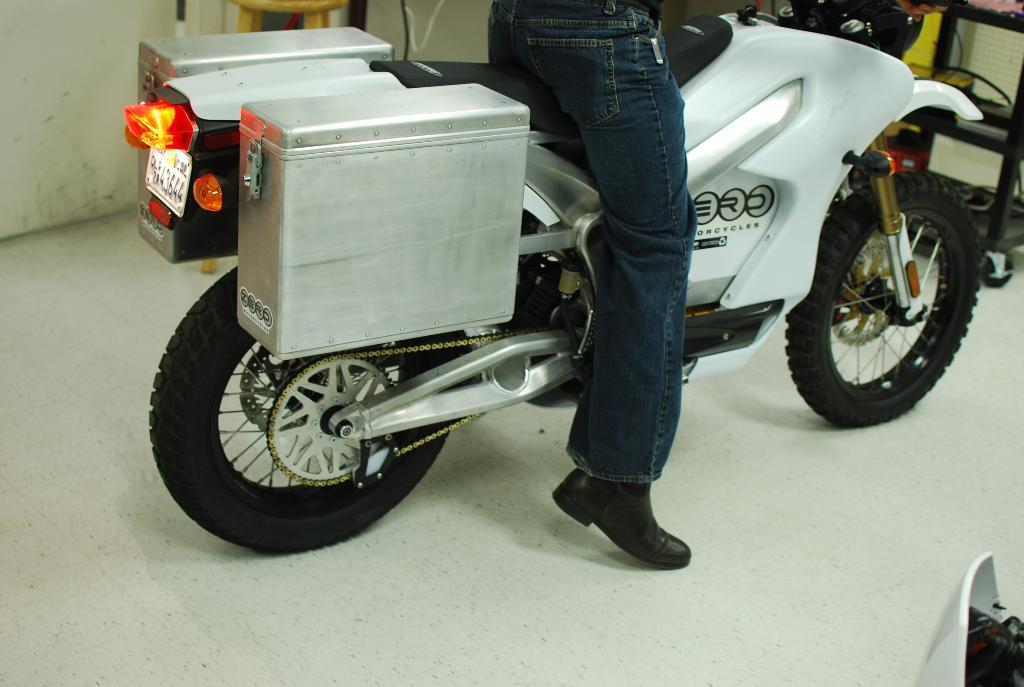Motorcycle: (200, 0, 991, 568)
